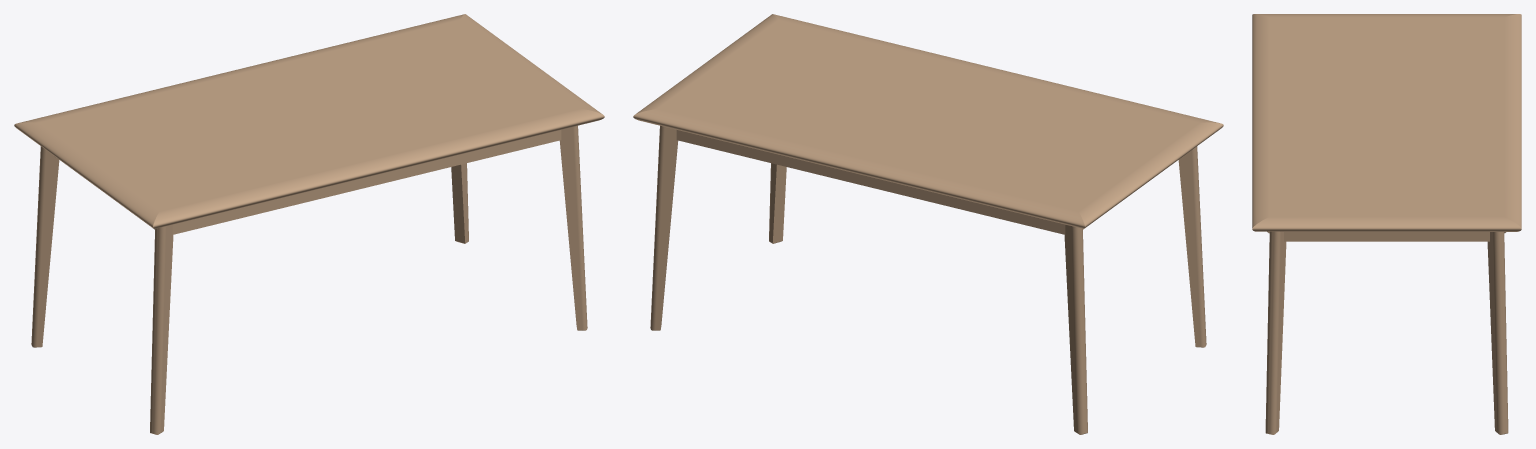
The model's file is 543_ダイニングテーブル4人掛け.glb.
3 renders of one model, left to right at view 1: azimuth 30°, elevation 25°; view 2: azimuth 150°, elevation 25°; view 3: azimuth 270°, elevation 25°, orthographic. The views are drawn at different scales.
Visible parts, largest first — view 1: Body; view 2: Body; view 3: Body.
Part boxes in pixels (x1,y1,x2,y2): Body: (14, 14, 604, 434); Body: (633, 14, 1223, 434); Body: (1252, 14, 1521, 434).
Size of the model in its own units: 1.5 by 0.7 by 0.7965.
